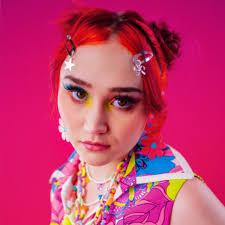Persons: (48, 2, 172, 180)
